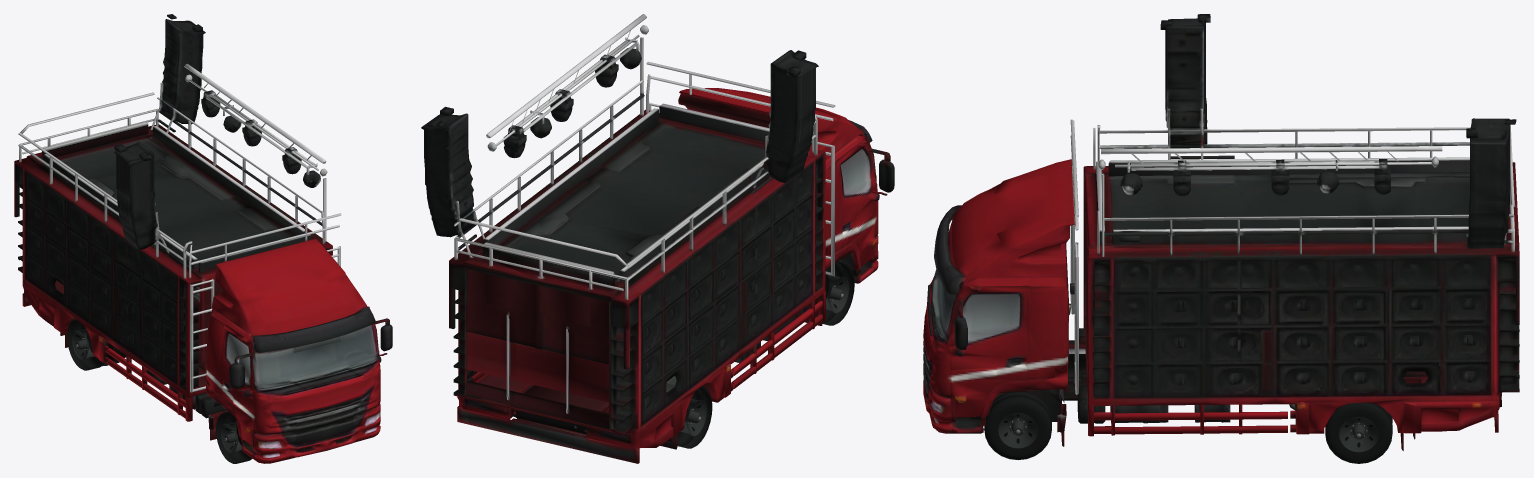
Rendered from caminhao-gm-1.glb.
3 renders of one model, left to right at view 1: azimuth 30°, elevation 25°; view 2: azimuth 150°, elevation 25°; view 3: azimuth 270°, elevation 25°, orthographic. The views are drawn at different scales.
Visible parts, largest first — view 1: Frota_truck, Tyre_Rear_L, Tyre_Front_L; view 2: Frota_truck, Tyre_Front_L, Tyre_Rear_L; view 3: Frota_truck, Tyre_Front_R, Tyre_Rear_R.
Boxes of the visible parts, x1,y1,x2,y2 form: Frota_truck: [14, 14, 392, 463]; Tyre_Rear_L: [67, 319, 119, 370]; Tyre_Front_L: [216, 411, 252, 463]; Frota_truck: [421, 14, 894, 463]; Tyre_Front_L: [822, 261, 854, 325]; Tyre_Rear_L: [677, 386, 712, 448]; Frota_truck: [923, 14, 1519, 450]; Tyre_Front_R: [984, 391, 1051, 459]; Tyre_Rear_R: [1325, 402, 1392, 463].
Size of the model in its own units: 3.3 by 4.4 by 6.8.
Materials: 1 (1 with a texture image).
